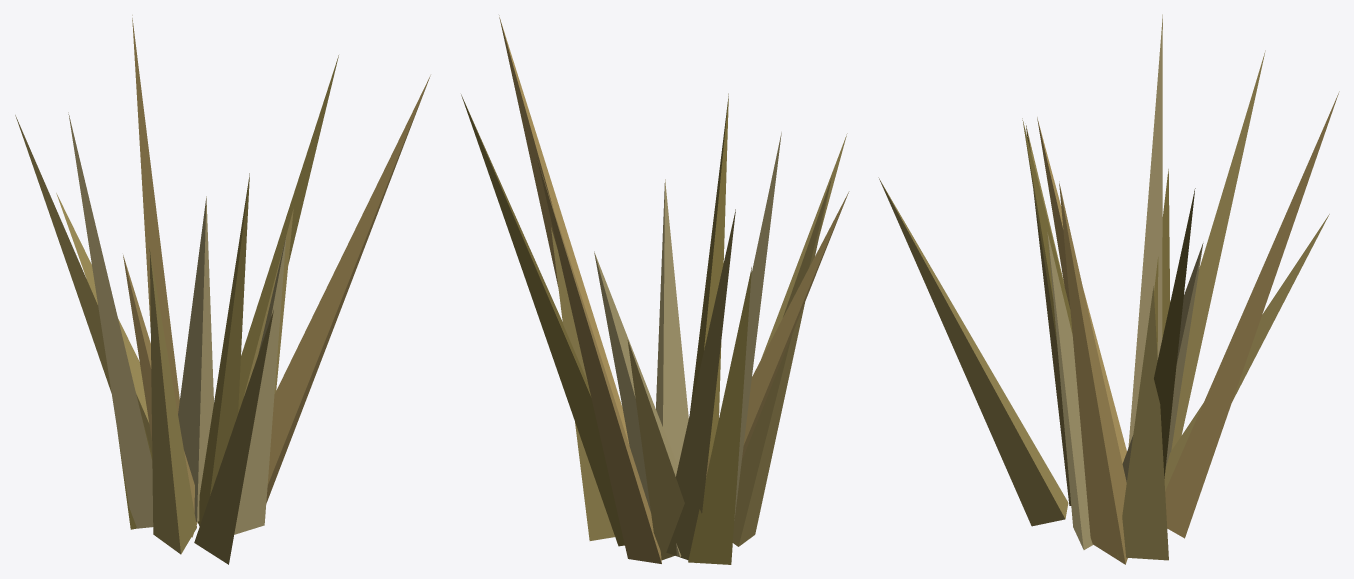
The model's file is grass_tuft.glb.
3 renders of one model, left to right at view 1: azimuth 30°, elevation 25°; view 2: azimuth 150°, elevation 25°; view 3: azimuth 270°, elevation 25°, orthographic. The views are drawn at different scales.
Parts seen in each view (by area): view 1: grass_tuft; view 2: grass_tuft; view 3: grass_tuft.
Part boxes in pixels (x1,y1,x2,y2): grass_tuft: [15, 15, 430, 564]; grass_tuft: [461, 15, 849, 564]; grass_tuft: [878, 14, 1339, 564].
Size of the model in its own units: 0.2853 by 0.3693 by 0.335.
